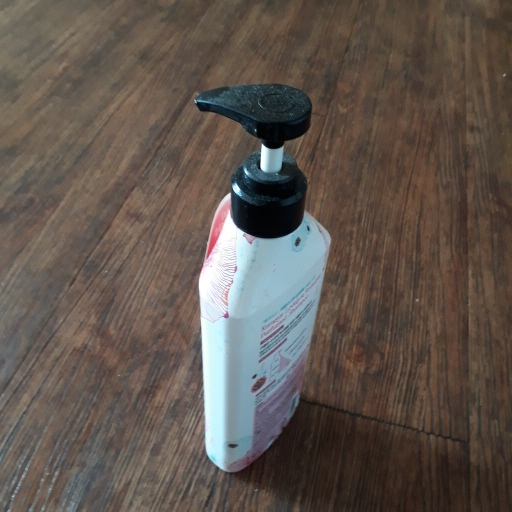Plastic_3: (184, 83, 329, 472)
